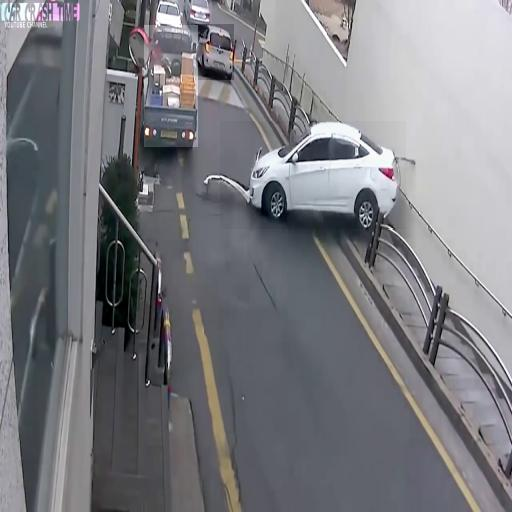小汽车: (144, 25, 198, 147), (195, 24, 234, 80), (184, 0, 212, 29)
小汽车撞物: (220, 122, 406, 230)
